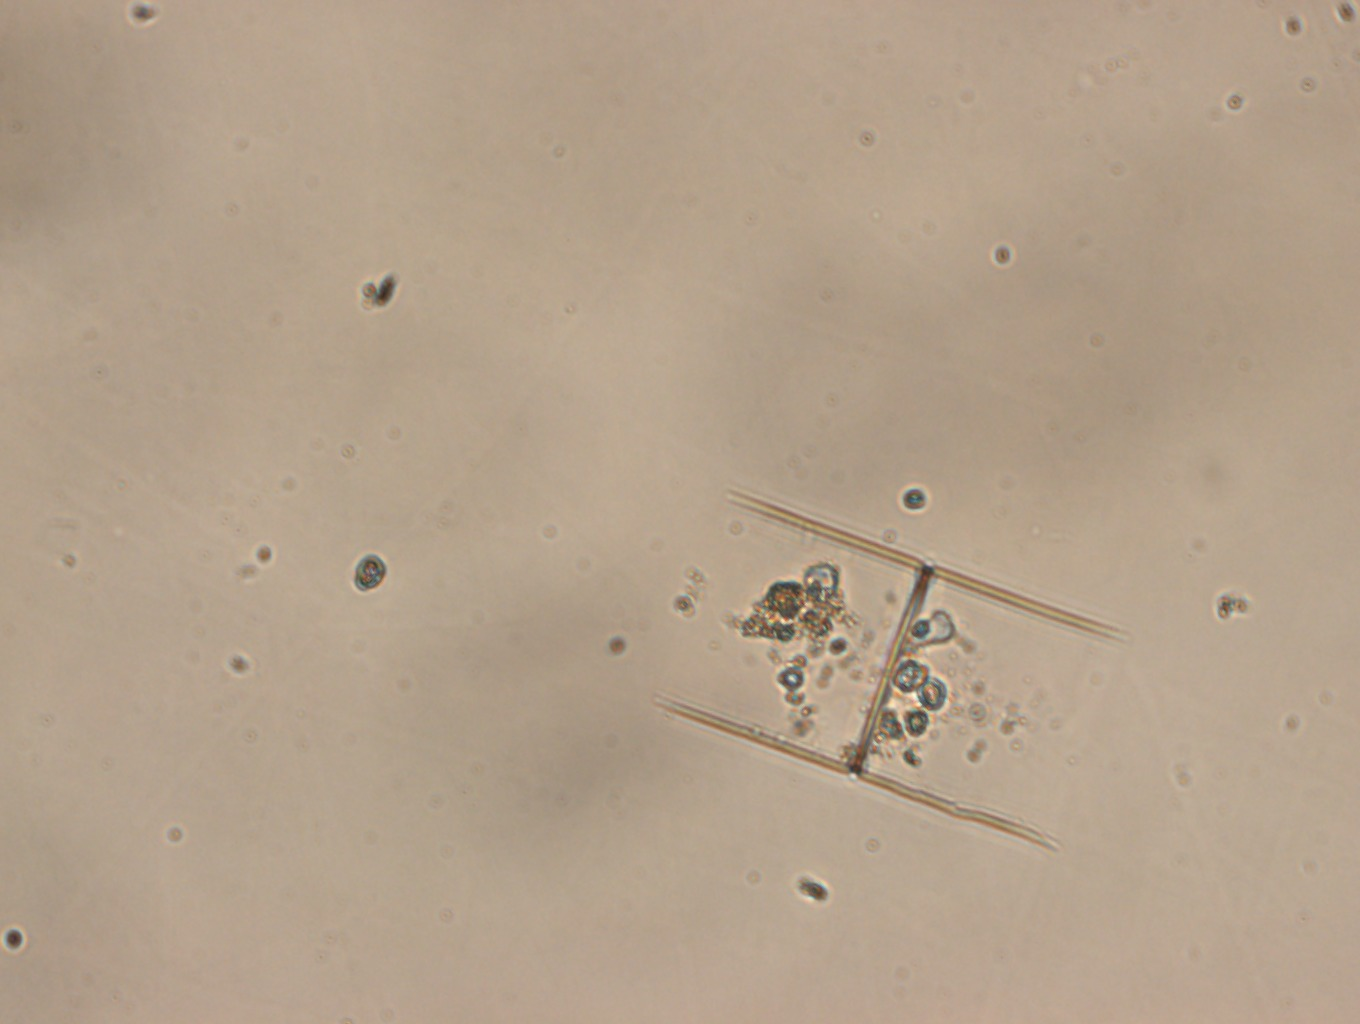guinardia flaccida: (652, 489, 1130, 850)
